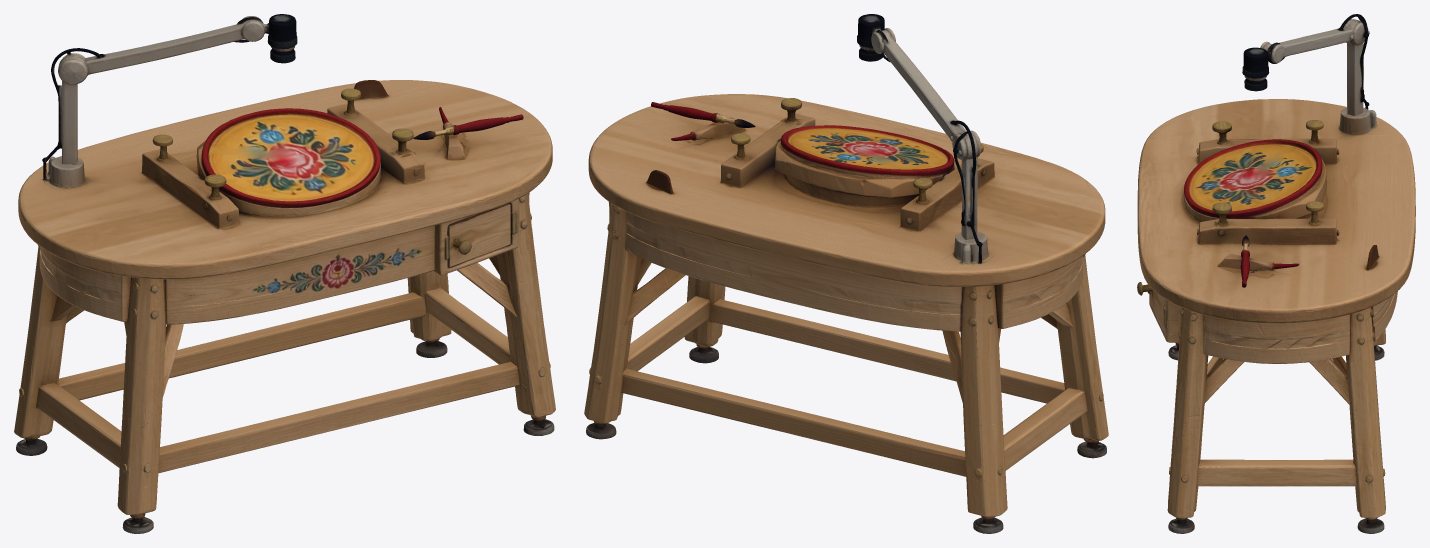
The model's file is craft.glb.
3 renders of one model, left to right at view 1: azimuth 30°, elevation 25°; view 2: azimuth 150°, elevation 25°; view 3: azimuth 270°, elevation 25°, orthographic. The views are drawn at different scales.
Visible parts, largest first — view 1: Hi3D source frame; view 2: Hi3D source frame; view 3: Hi3D source frame.
Boxes of the visible parts, <box> form: Hi3D source frame: <box>14,14,555,533</box>; Hi3D source frame: <box>584,14,1108,533</box>; Hi3D source frame: <box>1137,14,1415,533</box>.
Size of the model in its own units: 1.8 by 1.52 by 0.9984.
Materials: 1 (1 with a texture image).
